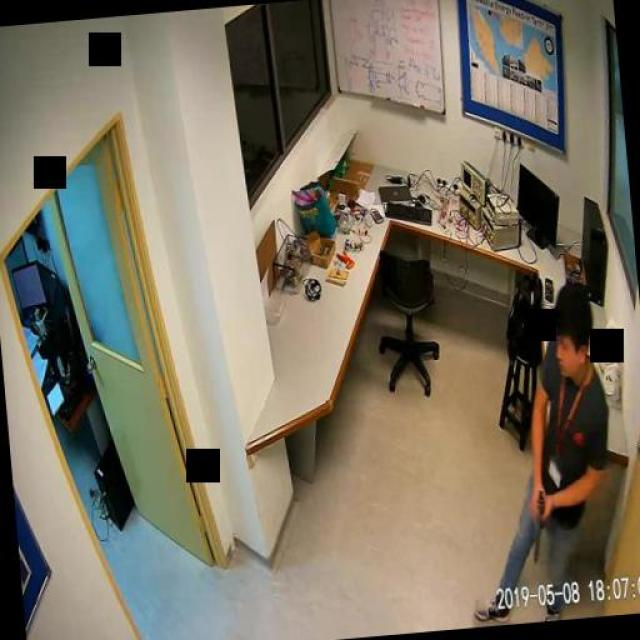gun: (526, 486, 550, 559)
